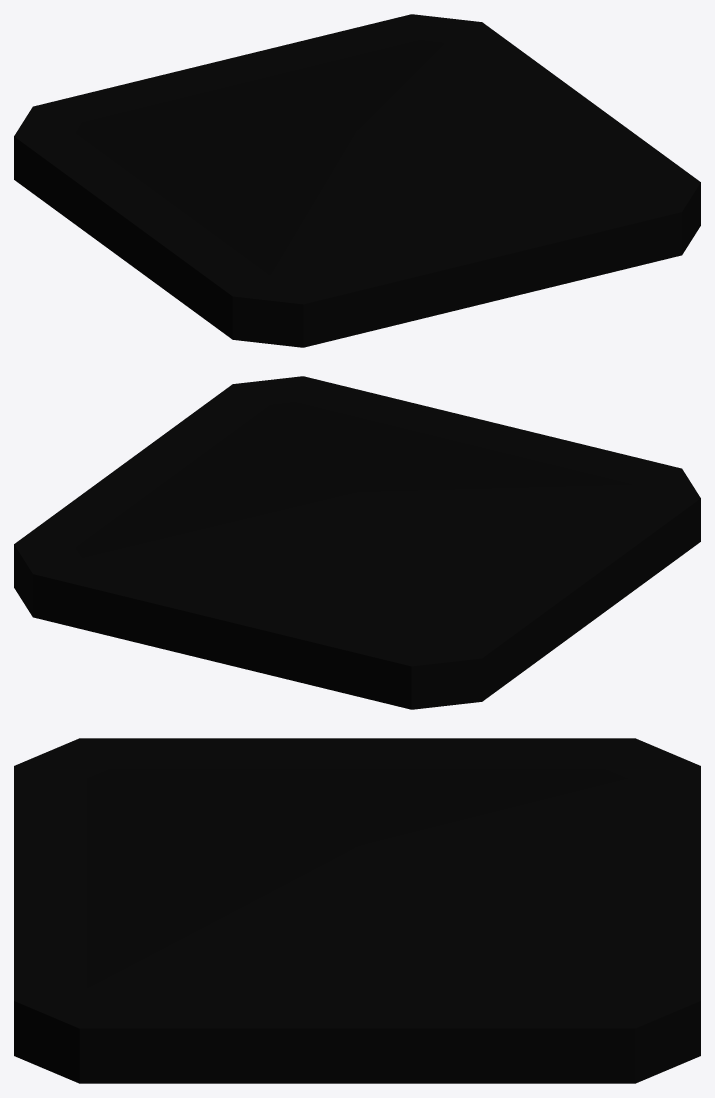
The model's file is tree_0.fbx.
The picture shows the model from 3 angles, top to bottom: view 1: azimuth 30°, elevation 25°; view 2: azimuth 150°, elevation 25°; view 3: azimuth 270°, elevation 25°; orthographic projection. The views are drawn at different scales.
Visible parts, largest first — view 1: tree_0; view 2: tree_0; view 3: tree_0.
Part boxes in pixels (<box>): tree_0: <box>14,14,700,347</box>; tree_0: <box>14,376,700,709</box>; tree_0: <box>14,738,700,1083</box>.
Size of the model in its own units: 2.11 by 0.3125 by 2.11.
